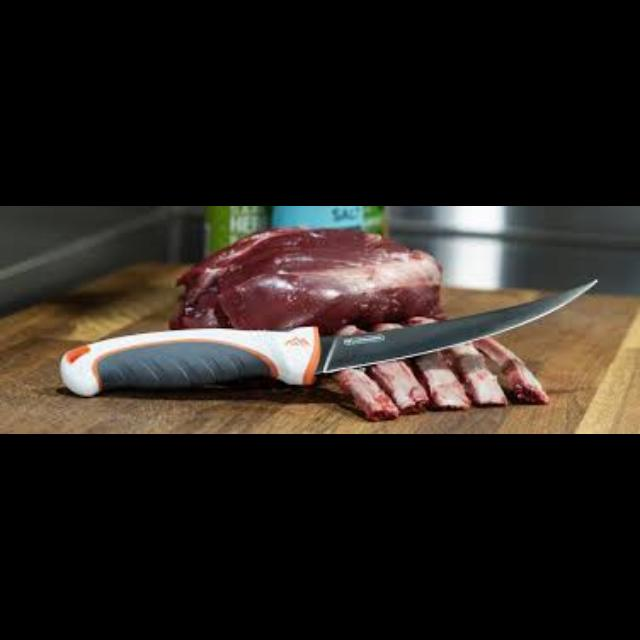knife: (60, 278, 598, 397)
